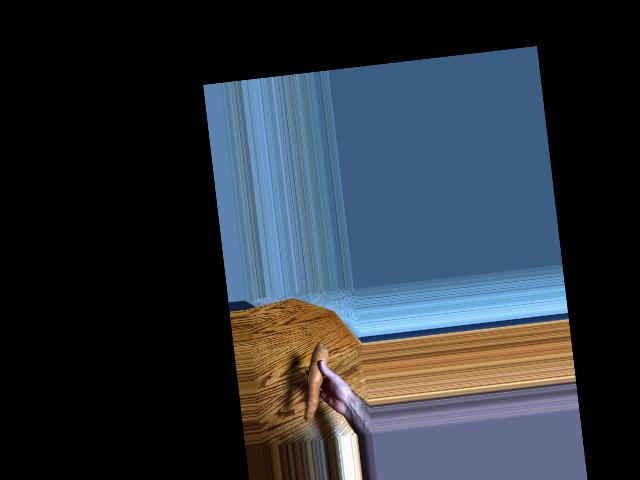sweet_potato: (302, 344, 332, 425)
